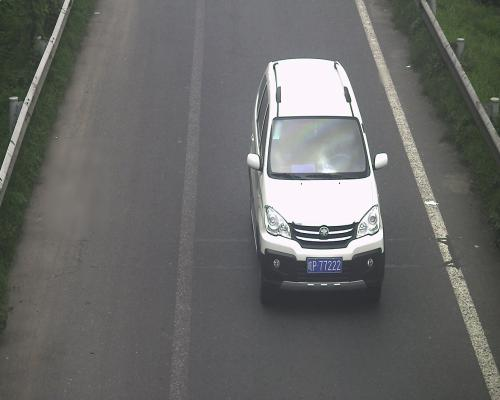Carplate: (304, 254, 345, 277)
